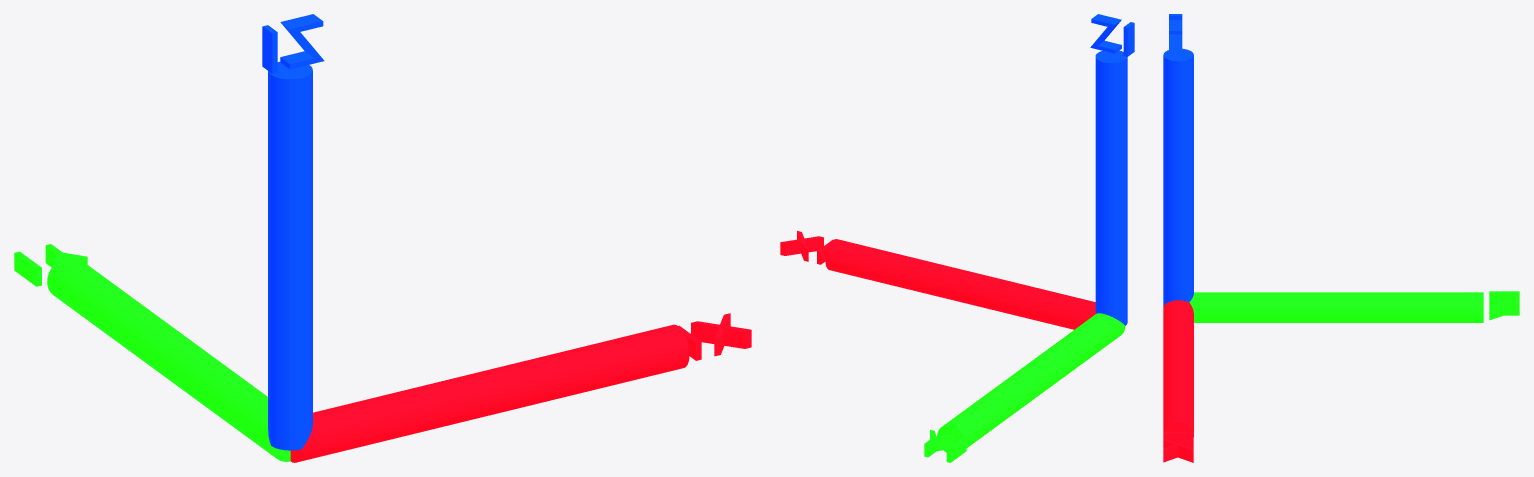
Rendered from axis_frame_1.dae.
The picture shows the model from 3 angles, left to right: view 1: azimuth 30°, elevation 25°; view 2: azimuth 150°, elevation 25°; view 3: azimuth 270°, elevation 25°; orthographic projection. The views are drawn at different scales.
Parts seen in each view (by area): view 1: Text.001; view 2: Text.001; view 3: Text.001.
Part boxes in pixels (x1,y1,x2,y2): Text.001: (14,14,751,462); Text.001: (780,14,1134,462); Text.001: (1163,14,1519,462).
Size of the model in its own units: 0.9223 by 0.8761 by 0.8114.
